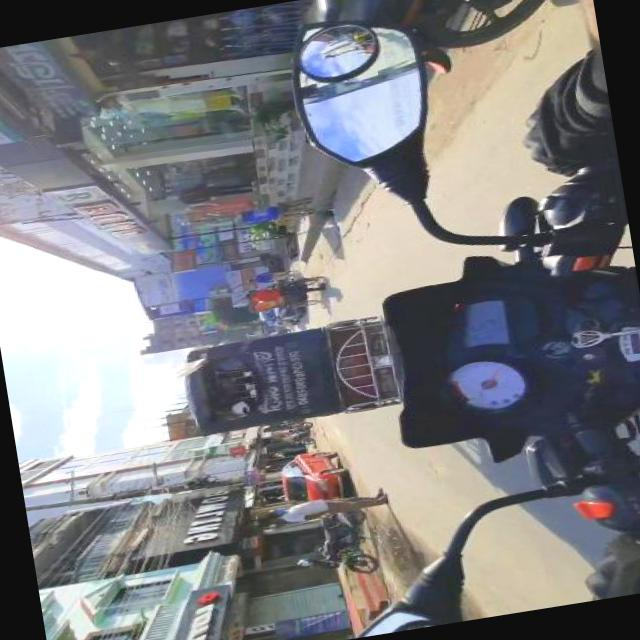car: (276, 446, 350, 504), (258, 304, 304, 324), (264, 317, 296, 329), (264, 327, 287, 334)
motorcycle: (284, 0, 640, 633), (178, 316, 398, 437), (333, 0, 573, 88), (295, 510, 378, 585), (242, 272, 330, 314), (288, 418, 314, 446)
